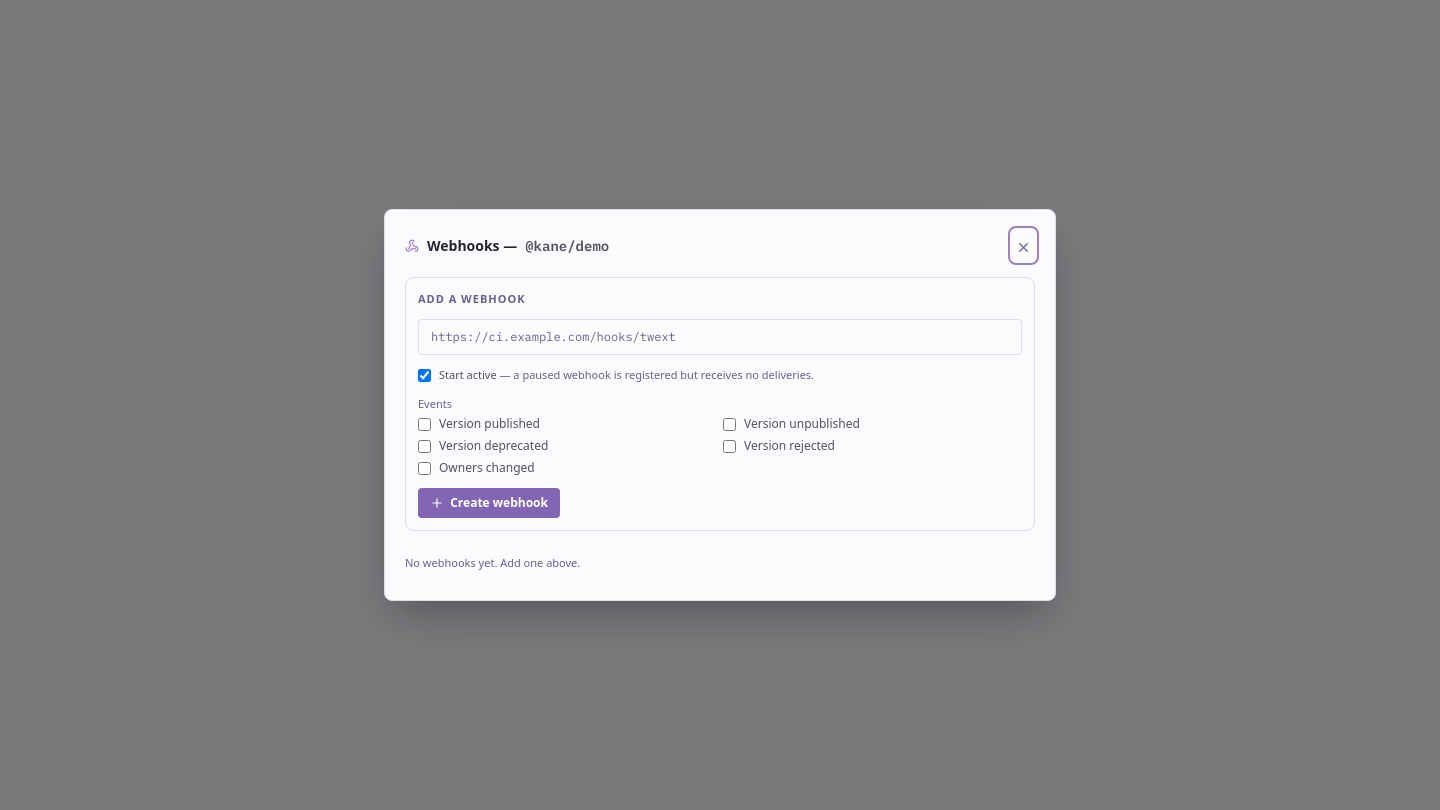
Test: WebhookPanel › reports a create failure
Expected: the text "No webhooks yet. Add one above." is shown, [405,555,580,570]
Type "https://ci.example.com/hook" into the field named "Webhook URL" at (720, 337), box [418,319,1022,355]
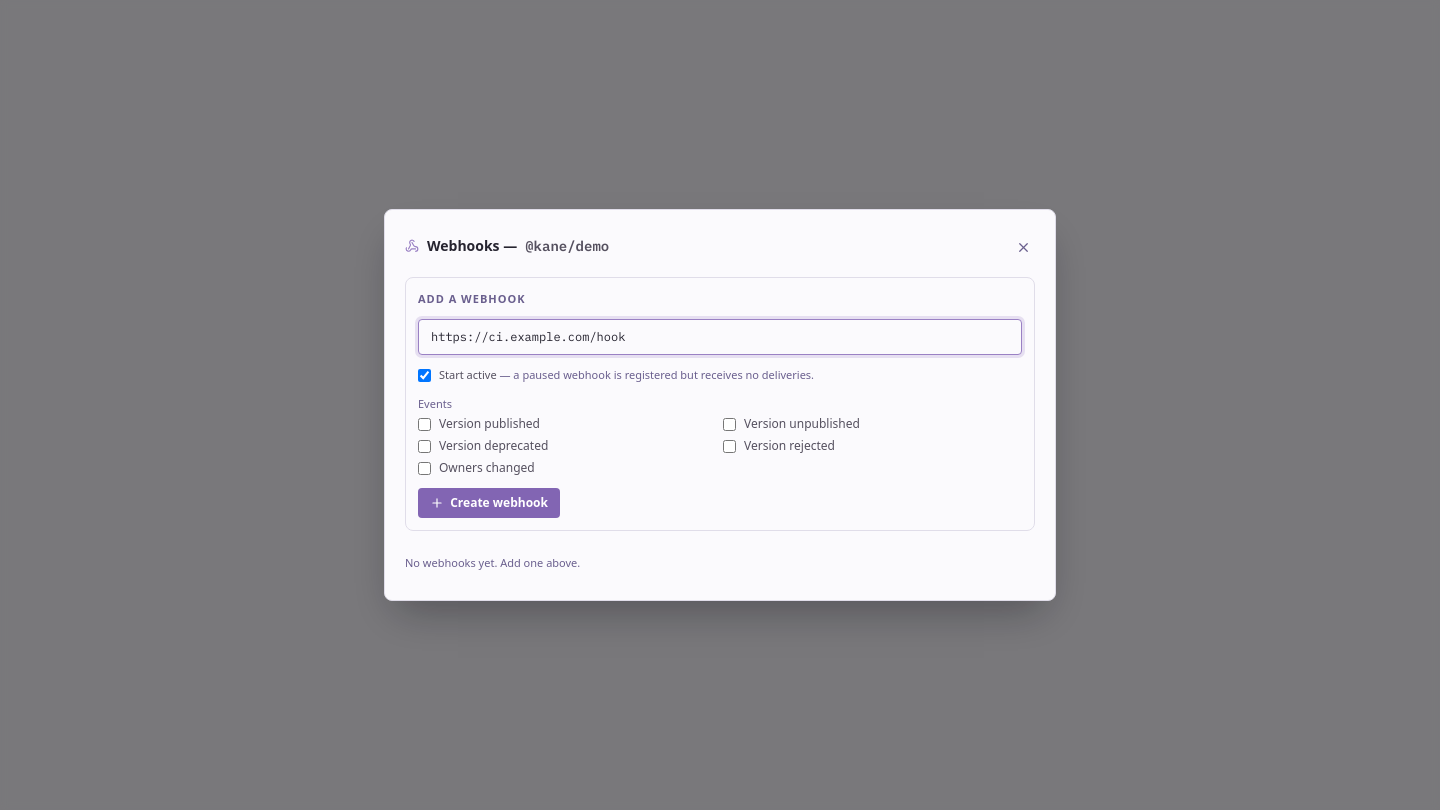
Click the checkbox labelled "Version published" at (424, 424), box [418,418,431,430]
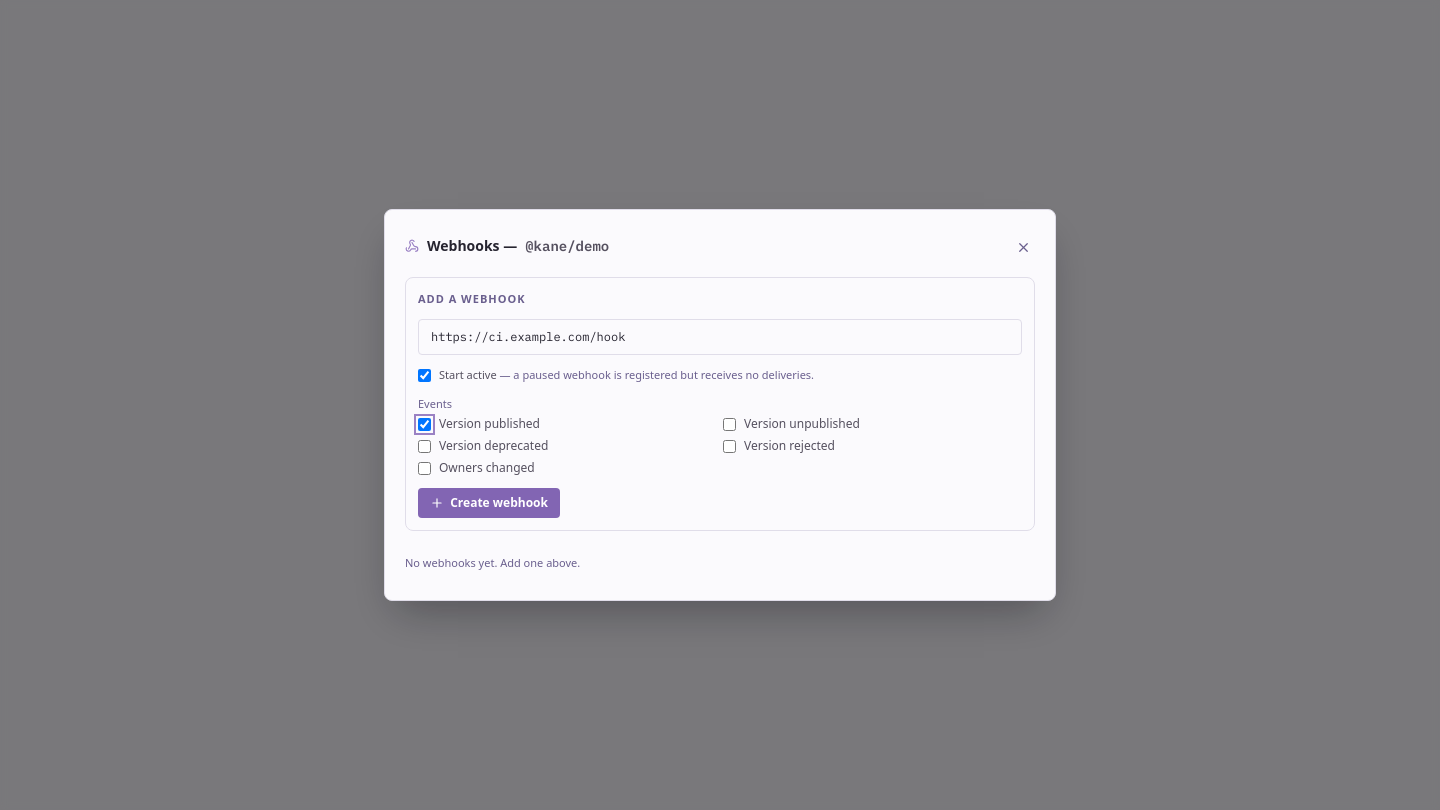
Click the button "Create webhook" at (489, 503), box [418,488,560,518]
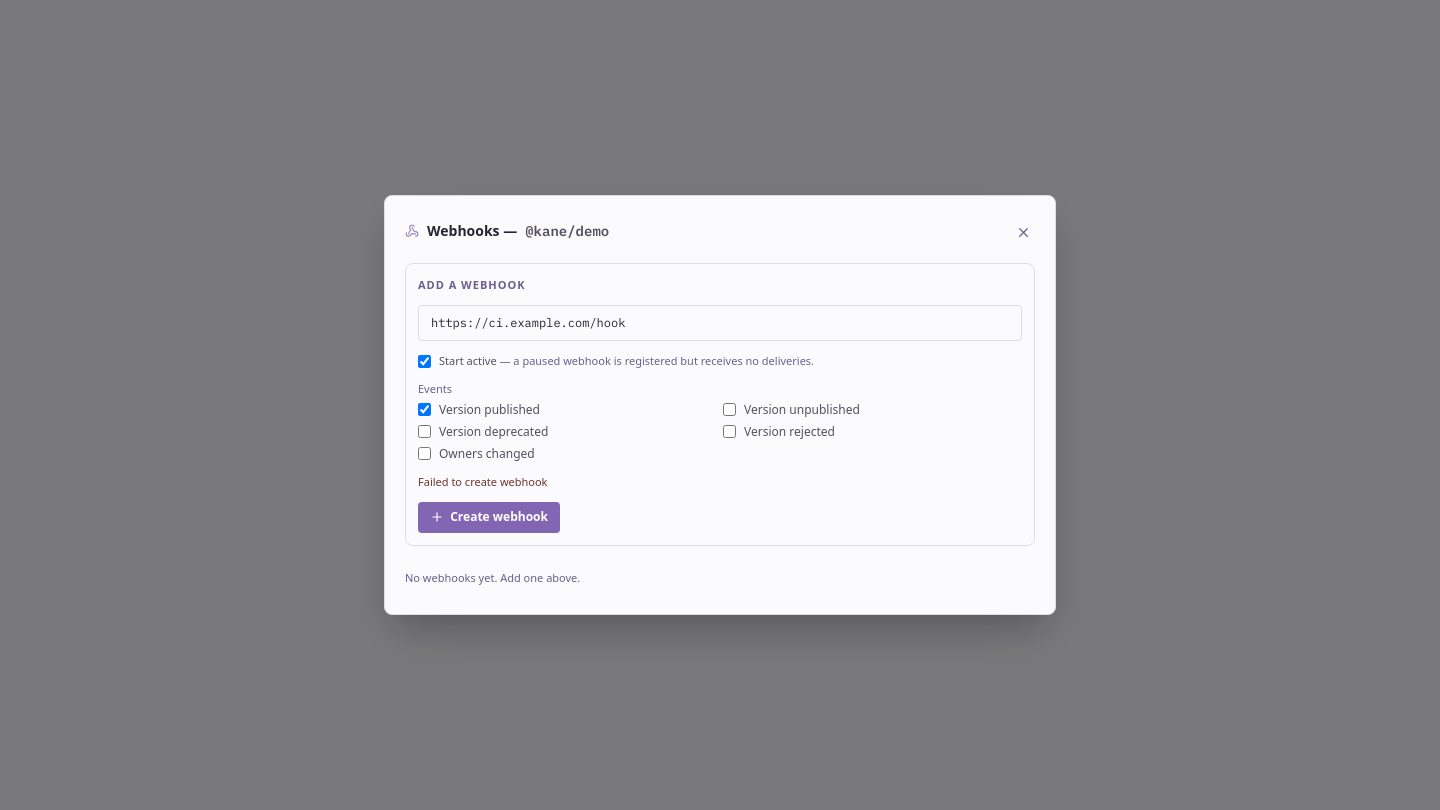
Expected: the text "Failed to create webhook" is shown, [418,474,548,489]
